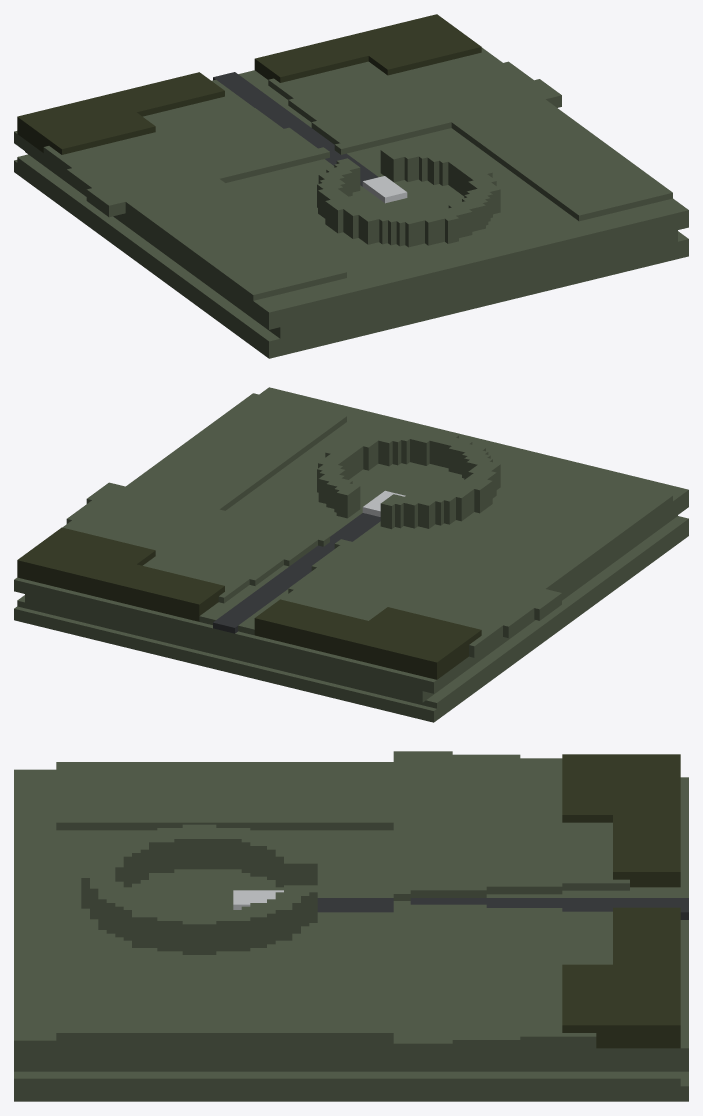
The model's file is nomex_suit.glb.
3 views of the same model, one above another, from view 1: azimuth 30°, elevation 25°; view 2: azimuth 150°, elevation 25°; view 3: azimuth 270°, elevation 25° (orthographic). The views are drawn at different scales.
Parts seen in each view (by area): view 1: nomex_suit:compound; view 2: nomex_suit:compound; view 3: nomex_suit:compound.
Boxes of the visible parts, bbox=[...] form: nomex_suit:compound: bbox=[14, 14, 688, 358]; nomex_suit:compound: bbox=[14, 387, 688, 722]; nomex_suit:compound: bbox=[14, 751, 688, 1101].
Size of the model in its own units: 0.328 by 0.048 by 0.32.
